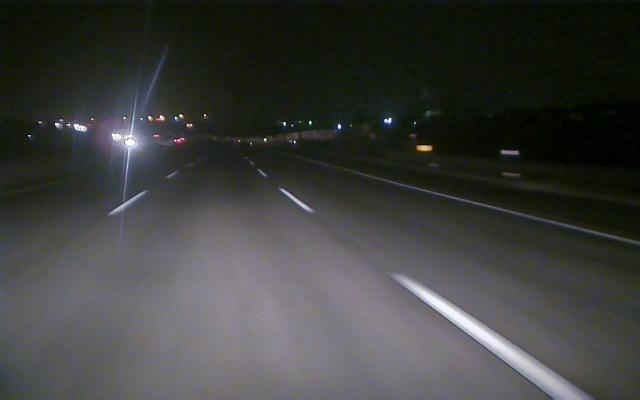lane: (256, 169, 592, 398), (371, 175, 640, 247), (107, 171, 178, 217)
